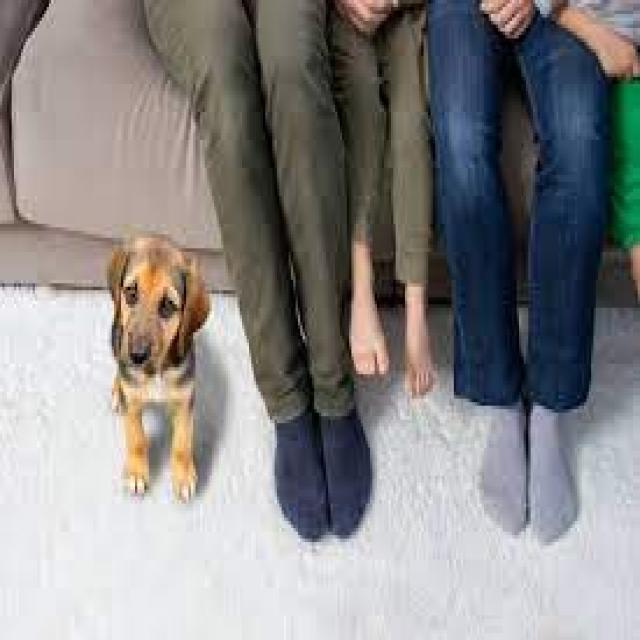No_Shoe: (348, 266, 390, 384), (402, 318, 436, 401)
